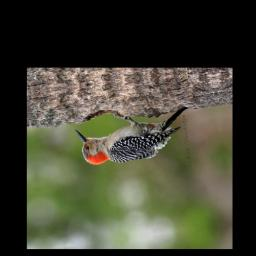Woodpecker: (71, 102, 201, 174)
